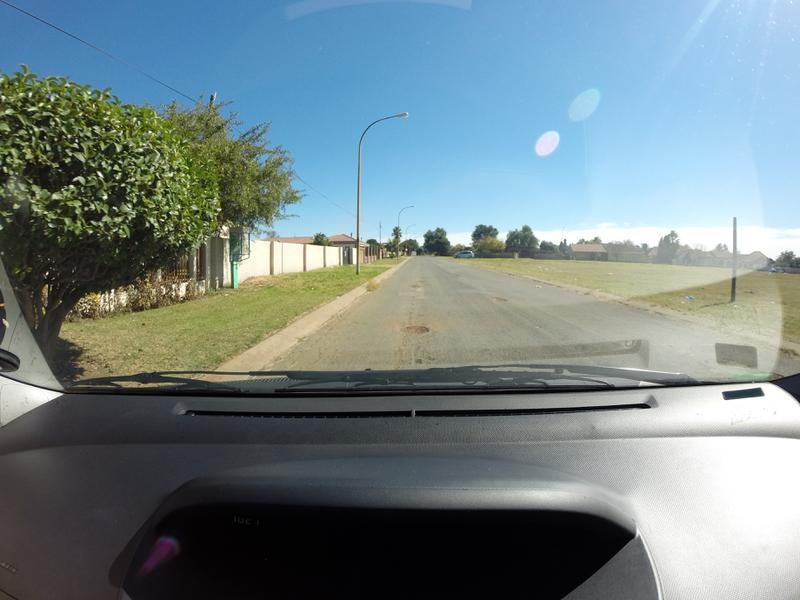pothole: (401, 324, 431, 334), (490, 295, 507, 307), (412, 281, 421, 290), (410, 359, 428, 363)
